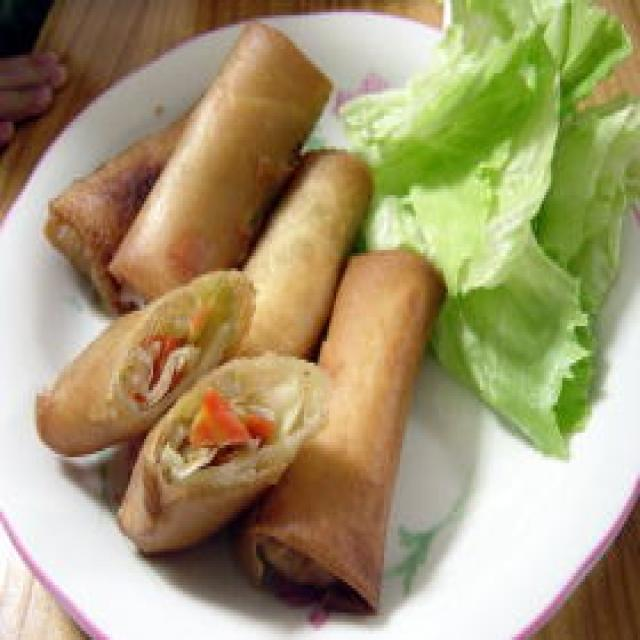鸡蛋料理: (32, 15, 459, 625)
